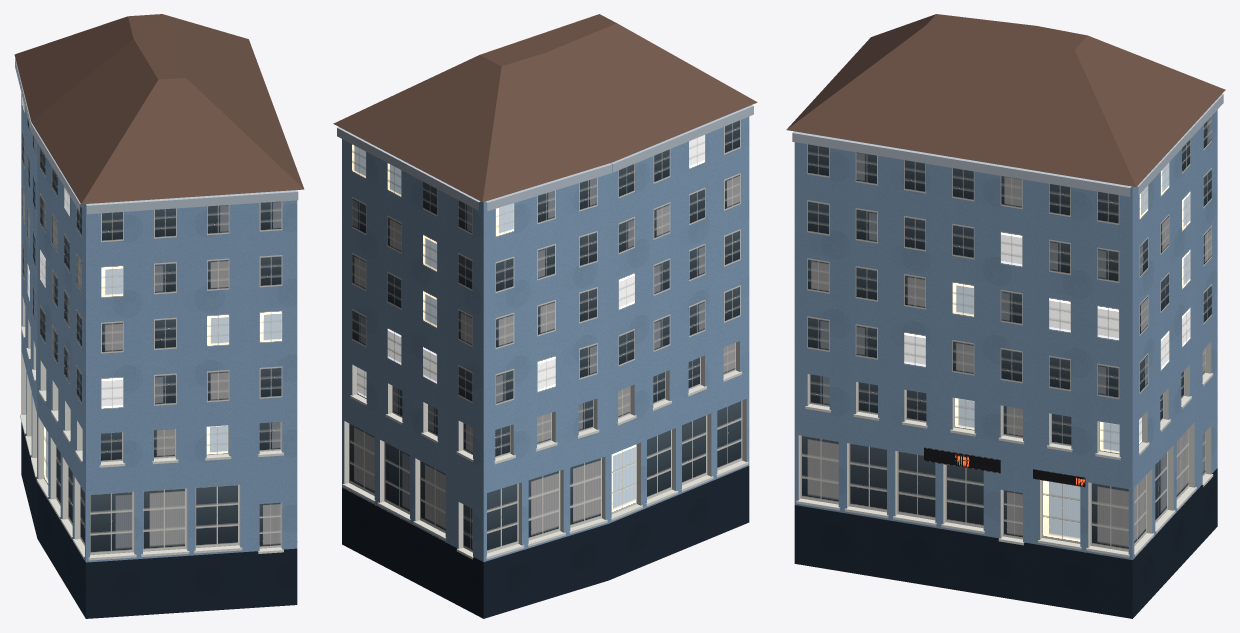
Rendered from langC_tipsy.glb.
3 renders of one model, left to right at view 1: azimuth 30°, elevation 25°; view 2: azimuth 150°, elevation 25°; view 3: azimuth 270°, elevation 25°, orthographic. The views are drawn at different scales.
Parts seen in each view (by area): view 1: langC_tipsy; view 2: langC_tipsy; view 3: langC_tipsy.
Part boxes in pixels (x1=…): langC_tipsy: x1=14, y1=14, x2=304, y2=618; langC_tipsy: x1=333, y1=14, x2=757, y2=618; langC_tipsy: x1=786, y1=14, x2=1225, y2=618.
Bounding box in the file's own units: 16.42 × 26.21 × 20.34.
Materials: 3 (3 with a texture image).
